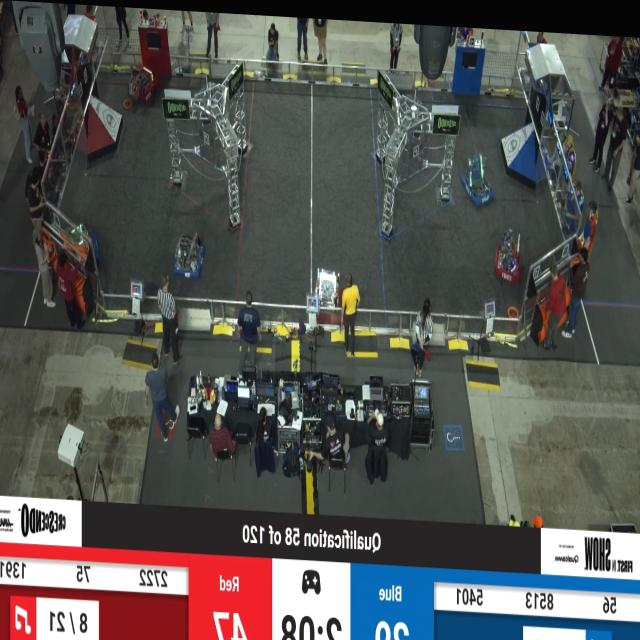Robot: (309, 252, 346, 333), (170, 214, 210, 281), (119, 51, 162, 111), (460, 145, 492, 205), (494, 218, 522, 279)
